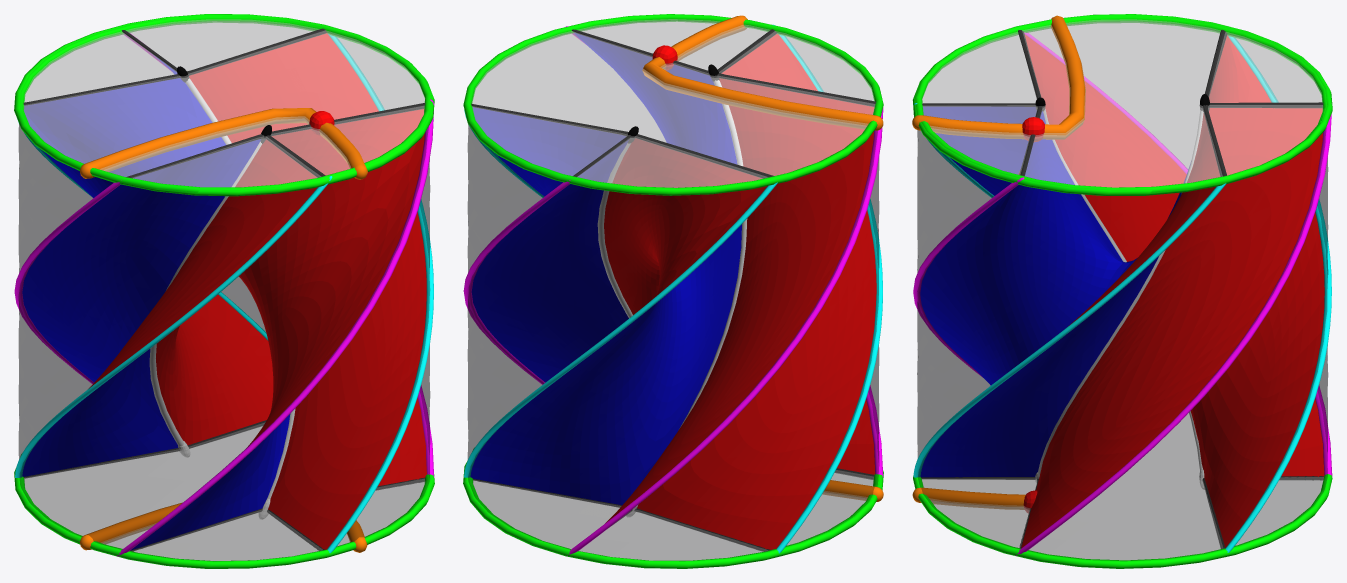
File: meridionaldiskreductionL31_cut.glb
3 views of the same model, side by side, from view 1: azimuth 30°, elevation 25°; view 2: azimuth 150°, elevation 25°; view 3: azimuth 270°, elevation 25° (orthographic).
Visible parts, largest first — view 1: Torus, Circle, meridional_disk_intersection, meridional_disk_intersection_bdry, reduction_path, boundary2, boundary1, meridional_disk_intersection.001, sing; view 2: Torus, Circle, meridional_disk_intersection, meridional_disk_intersection_bdry, boundary1, reduction_path, boundary2, meridional_disk_intersection.001, sing; view 3: Torus, Circle, meridional_disk_intersection, meridional_disk_intersection_bdry, boundary1, boundary2, reduction_path, meridional_disk_intersection.001, sing, int_with_red_path.
Part boxes in pixels (x1,y1,x2,y2): Torus: (18, 124, 430, 561); Circle: (22, 33, 426, 550); meridional_disk_intersection: (24, 19, 424, 560); meridional_disk_intersection_bdry: (14, 14, 434, 568); reduction_path: (79, 108, 367, 552); boundary2: (15, 34, 433, 553); boundary1: (14, 33, 434, 556); meridional_disk_intersection.001: (23, 28, 425, 551); sing: (149, 78, 295, 498); Torus: (467, 124, 879, 560); Circle: (470, 33, 876, 549); meridional_disk_intersection: (472, 19, 874, 560); meridional_disk_intersection_bdry: (463, 14, 883, 568); boundary1: (463, 26, 883, 555); reduction_path: (642, 15, 883, 501); boundary2: (464, 24, 882, 553); meridional_disk_intersection.001: (471, 29, 875, 551); sing: (597, 80, 747, 428); Torus: (917, 128, 1328, 560); Circle: (920, 34, 1324, 548); meridional_disk_intersection: (922, 19, 1323, 559); meridional_disk_intersection_bdry: (912, 14, 1332, 568); boundary1: (913, 32, 1332, 555); boundary2: (913, 36, 1331, 552); reduction_path: (912, 15, 1085, 509); meridional_disk_intersection.001: (921, 30, 1324, 548); sing: (1038, 109, 1203, 474); int_with_red_path: (1022, 117, 1044, 513).
Size of the model in its own units: 2.05 by 2.12 by 2.05.
